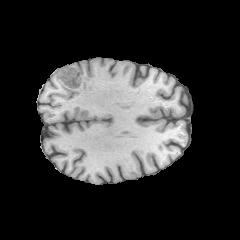glioma: (53, 64, 93, 96)
